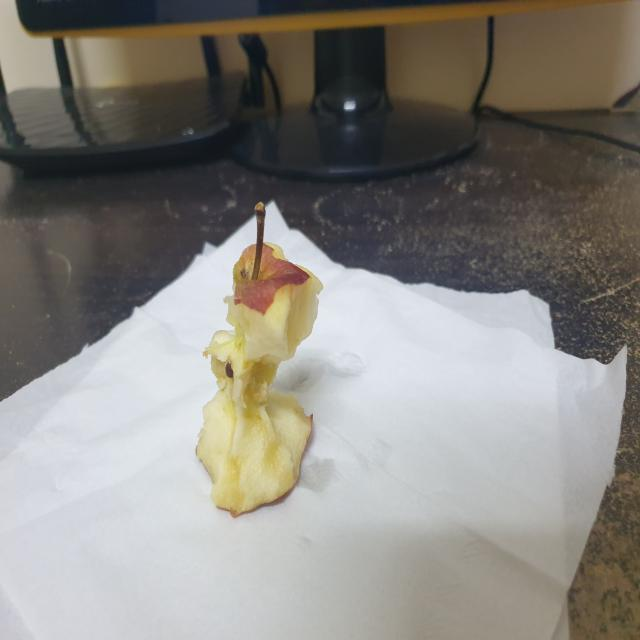apple: (196, 194, 324, 516)
